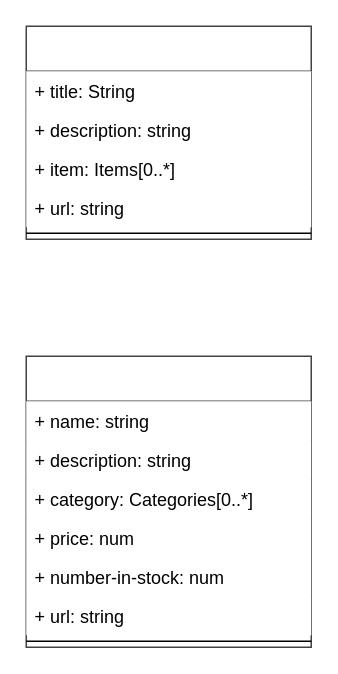
The diagram is 338 pixels wide and 674 high, and some of its shapes have lost their labels. The shapes that lost their labels are listed below. From the top down, each one's box as (x1, y1, x2, y2) in pixels, then its label:
(25, 25, 311, 239): Categories
(25, 355, 311, 647): Items
